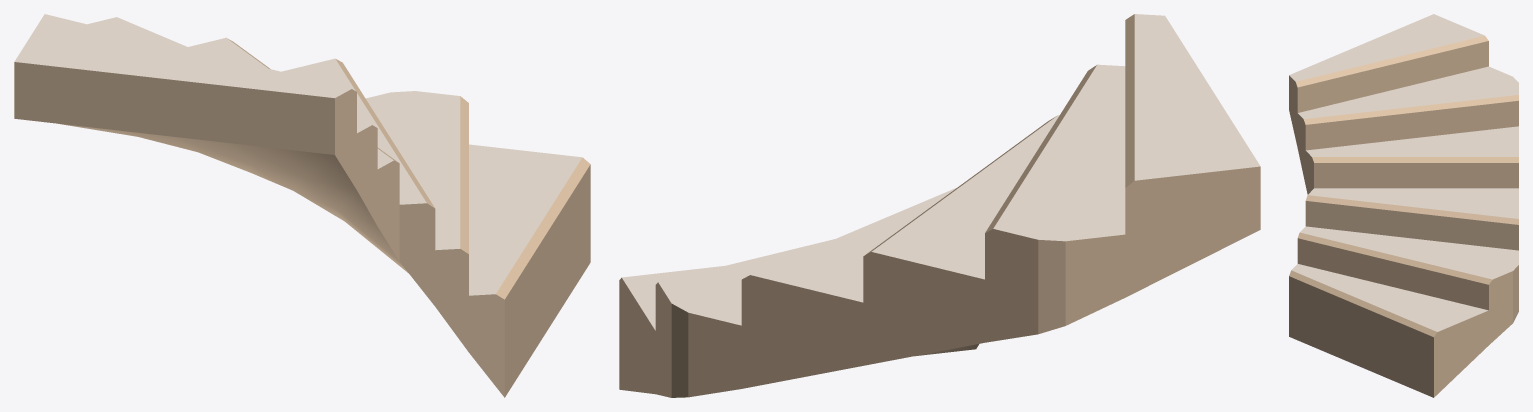
The model's file is Tower_Steps.fbx.
3 views of the same model, side by side, from view 1: azimuth 30°, elevation 25°; view 2: azimuth 150°, elevation 25°; view 3: azimuth 270°, elevation 25° (orthographic). The views are drawn at different scales.
Visible parts, largest first — view 1: Sandstone_Trim.Sandstone_Trim.Sandstone_Trim.Sandstone_Trim., Sandstone_Floor.Sandstone_Floor.Sandstone_Floor.Sandstone_Fl; view 2: Sandstone_Trim.Sandstone_Trim.Sandstone_Trim.Sandstone_Trim., Sandstone_Floor.Sandstone_Floor.Sandstone_Floor.Sandstone_Fl; view 3: Sandstone_Trim.Sandstone_Trim.Sandstone_Trim.Sandstone_Trim., Sandstone_Floor.Sandstone_Floor.Sandstone_Floor.Sandstone_Fl.
Boxes of the visible parts, x1,y1,x2,y2 form: Sandstone_Trim.Sandstone_Trim.Sandstone_Trim.Sandstone_Trim.: (14, 38, 590, 397); Sandstone_Floor.Sandstone_Floor.Sandstone_Floor.Sandstone_Fl: (14, 14, 582, 295); Sandstone_Trim.Sandstone_Trim.Sandstone_Trim.Sandstone_Trim.: (619, 14, 1260, 397); Sandstone_Floor.Sandstone_Floor.Sandstone_Floor.Sandstone_Fl: (622, 14, 1260, 330); Sandstone_Trim.Sandstone_Trim.Sandstone_Trim.Sandstone_Trim.: (1289, 35, 1518, 397); Sandstone_Floor.Sandstone_Floor.Sandstone_Floor.Sandstone_Fl: (1289, 14, 1518, 331).
Size of the model in its own units: 2.12 by 1.2 by 1.19.
